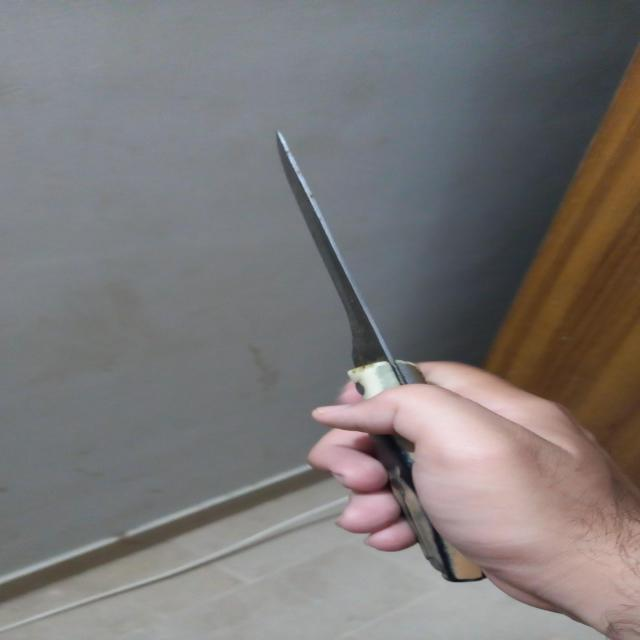Knife: (272, 132, 486, 578)
Person: (312, 357, 640, 640)
